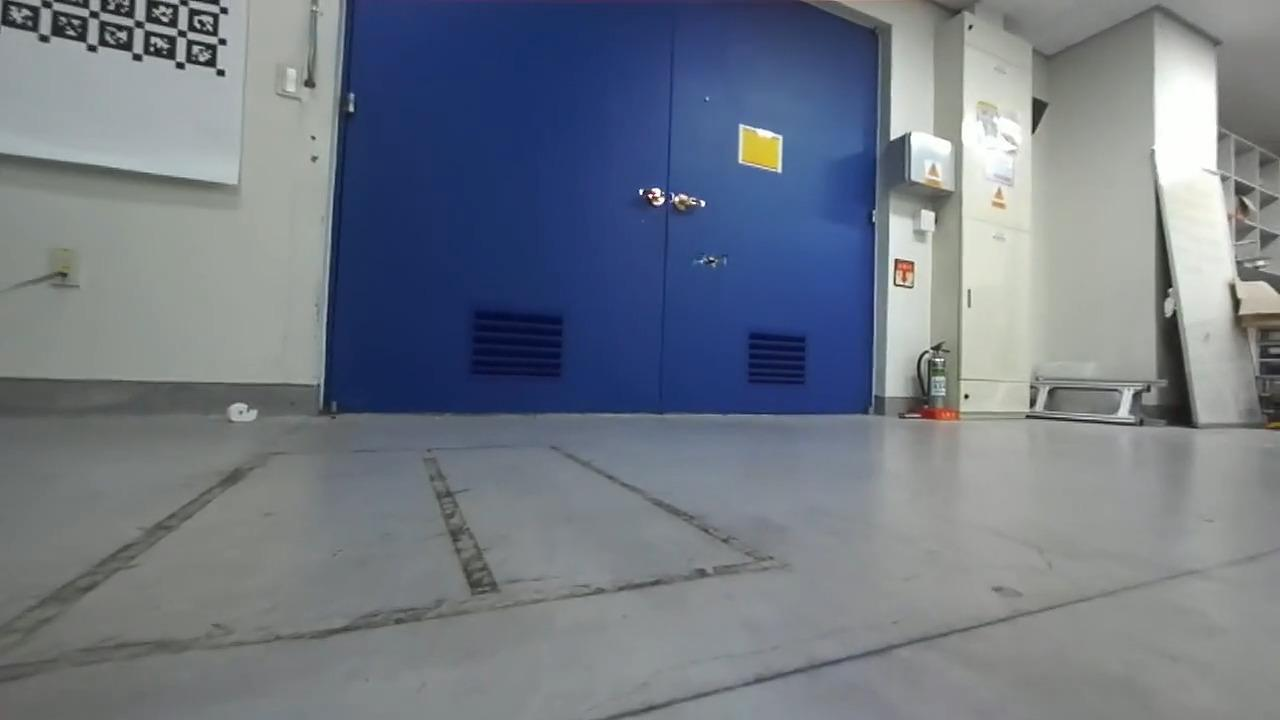crazyflie: (686, 246, 733, 276)
